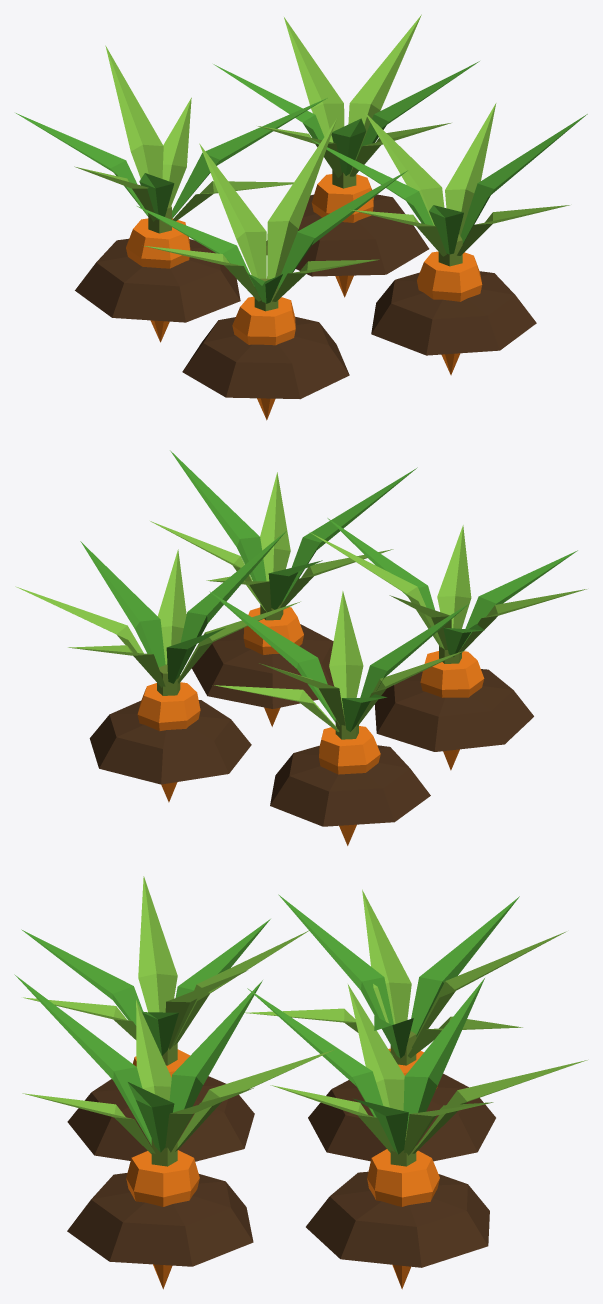
Rendered from crop_carrot.glb.
3 views of the same model, one above another, from view 1: azimuth 30°, elevation 25°; view 2: azimuth 150°, elevation 25°; view 3: azimuth 270°, elevation 25° (orthographic). The views are drawn at different scales.
Parts seen in each view (by area): view 1: Plant, Mounds, Fruit_3, Fruit_1, Fruit_0, Fruit_2; view 2: Plant, Mounds, Fruit_0, Fruit_2, Fruit_1, Fruit_3; view 3: Plant, Mounds, Fruit_3, Fruit_2.
Part boxes in pixels (x1,y1,x2,y2): Plant: [16, 14, 587, 311]; Mounds: [75, 194, 536, 399]; Fruit_3: [417, 251, 482, 375]; Fruit_1: [232, 296, 295, 420]; Fruit_0: [126, 218, 190, 342]; Fruit_2: [311, 174, 373, 297]; Plant: [15, 450, 586, 739]; Mounds: [89, 624, 533, 826]; Fruit_0: [319, 726, 380, 845]; Fruit_2: [137, 682, 200, 802]; Fruit_1: [420, 651, 484, 770]; Fruit_3: [243, 607, 303, 726]; Plant: [14, 876, 587, 1166]; Mounds: [67, 1073, 495, 1267]; Fruit_3: [126, 1150, 199, 1289]; Fruit_2: [367, 1149, 439, 1289].
Size of the model in its own units: 1 by 0.541 by 1.01.
